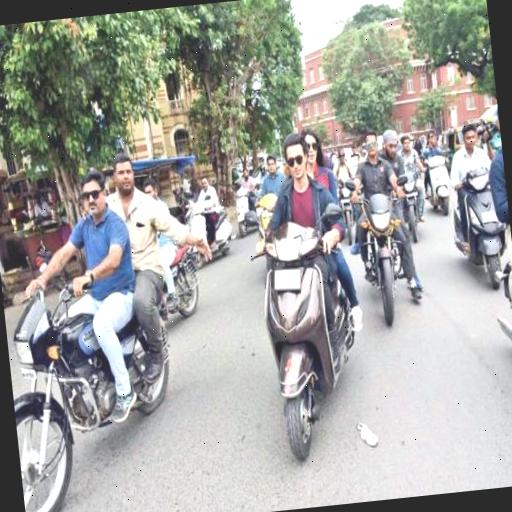no helmet: (0, 149, 141, 488), (242, 130, 346, 480), (336, 120, 414, 328), (438, 120, 500, 278), (178, 169, 236, 258), (418, 131, 453, 211), (397, 135, 427, 227), (230, 164, 262, 230)
